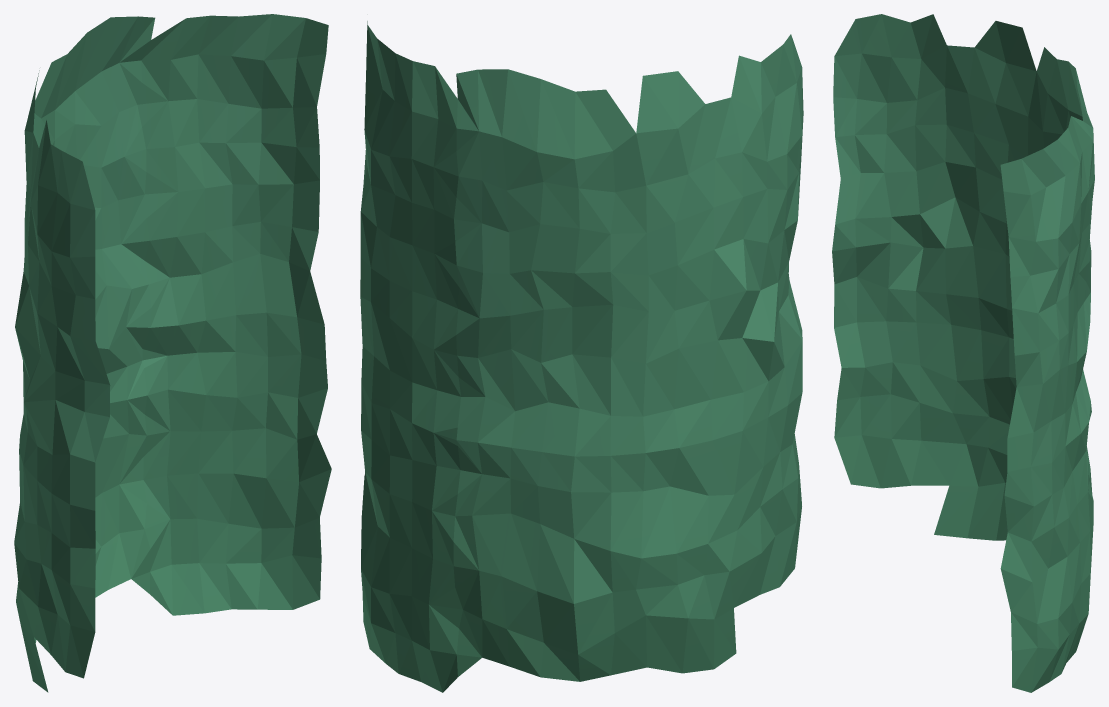
File: Map_prop_01.FBX
3 renders of one model, left to right at view 1: azimuth 30°, elevation 25°; view 2: azimuth 150°, elevation 25°; view 3: azimuth 270°, elevation 25°, orthographic. The views are drawn at different scales.
Parts seen in each view (by area): view 1: Map_prop_01; view 2: Map_prop_01; view 3: Map_prop_01.
Part boxes in pixels (x1,y1,x2,y2): Map_prop_01: (14,14,331,692); Map_prop_01: (360,21,803,692); Map_prop_01: (832,14,1094,692).
Bounding box in the file's own units: 10.67 × 17.84 × 7.65.
